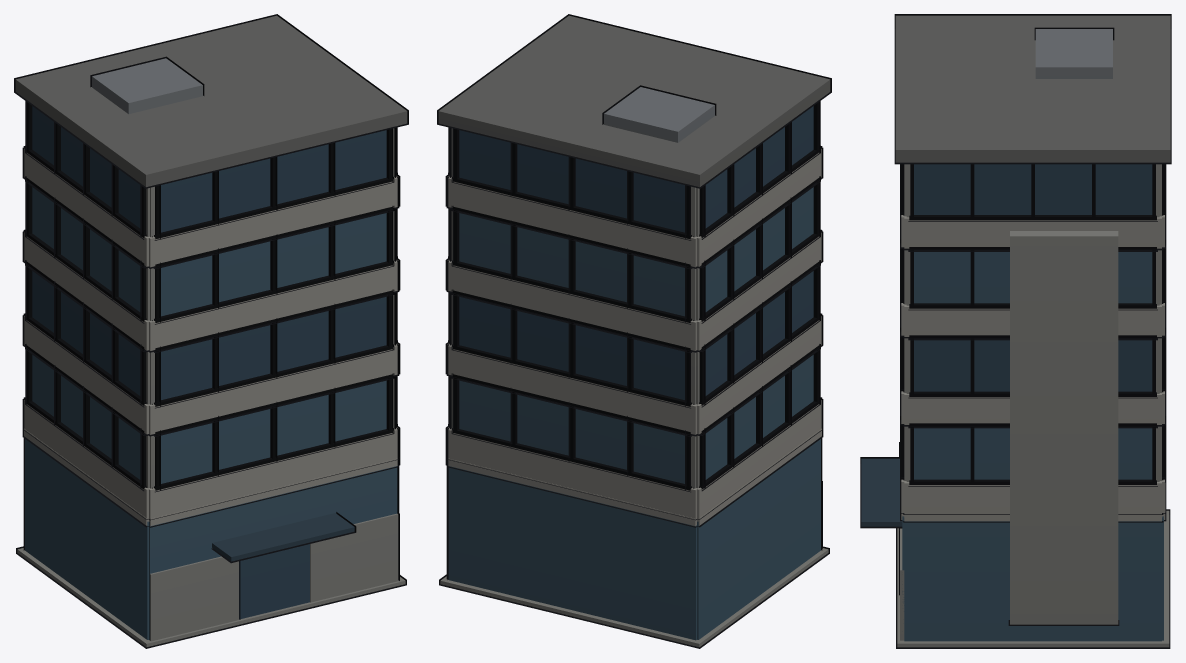
Rendered from town_city_block_shut.glb.
The picture shows the model from 3 angles, left to right: view 1: azimuth 30°, elevation 25°; view 2: azimuth 150°, elevation 25°; view 3: azimuth 270°, elevation 25°; orthographic projection. The views are drawn at different scales.
Visible parts, largest first — view 1: prop; view 2: prop; view 3: prop.
Part boxes in pixels (box(x1,y1,x2,y2)): prop: box(14, 14, 408, 648); prop: box(437, 14, 831, 648); prop: box(860, 14, 1171, 648).
Bounding box in the file's own units: 11.42 × 19.73 × 10.88.
